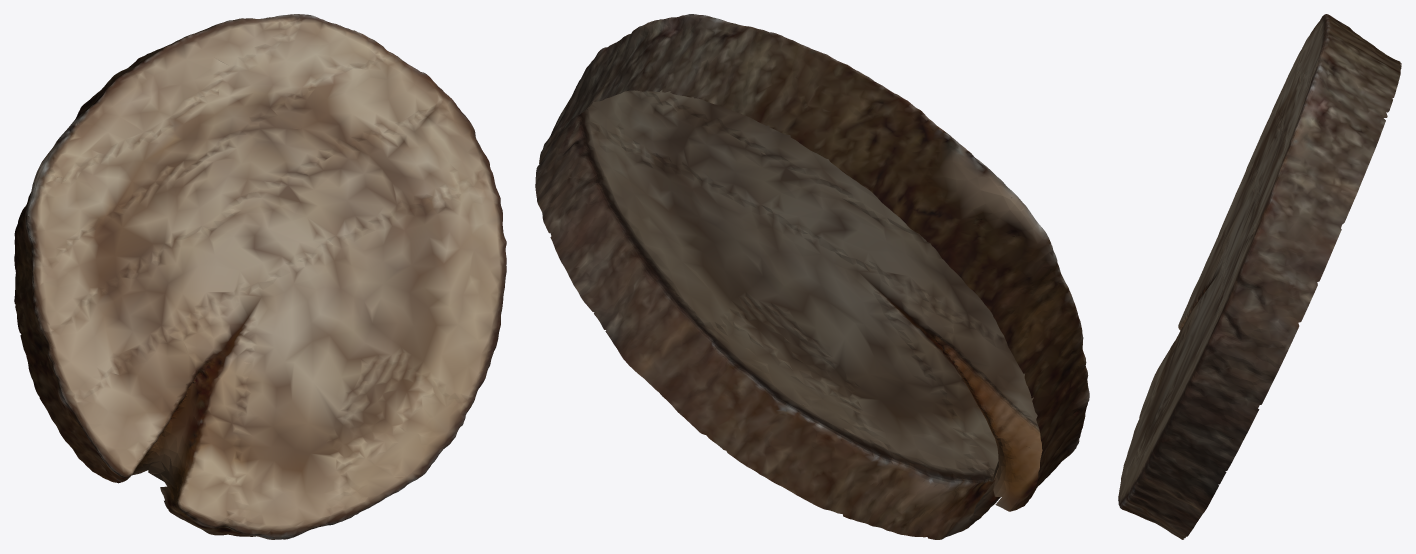
File: Scaled_HolzRugel.obj
3 views of the same model, side by side, from view 1: azimuth 30°, elevation 25°; view 2: azimuth 150°, elevation 25°; view 3: azimuth 270°, elevation 25° (orthographic). The views are drawn at different scales.
Size of the model in its own units: 0.3641 by 0.3569 by 0.1922.
